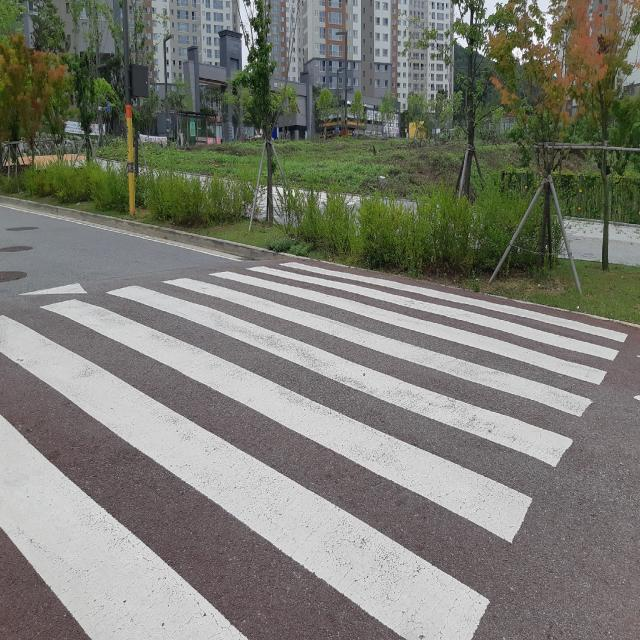횡단보도: (0, 260, 629, 640)
